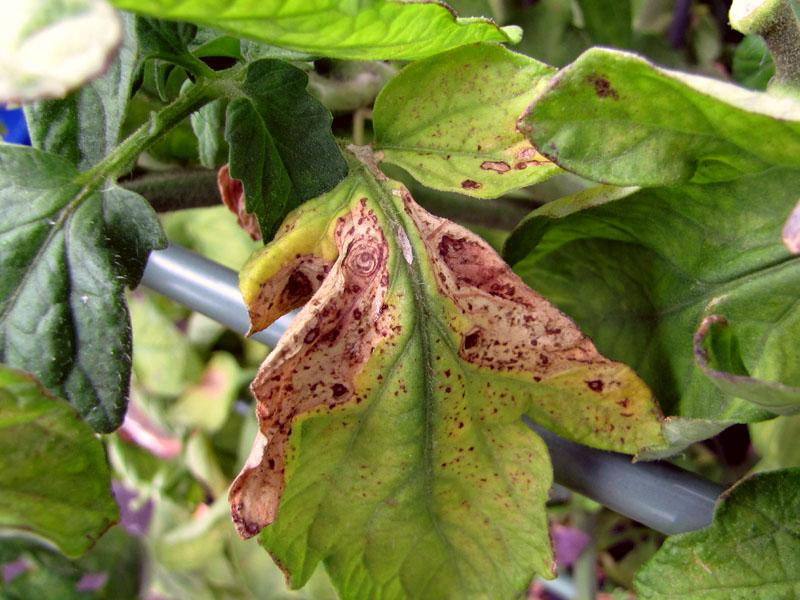Tomato Early blight leaf: (209, 117, 642, 600)
